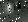person: (3, 3, 10, 15), (9, 4, 15, 13), (16, 3, 21, 13)
